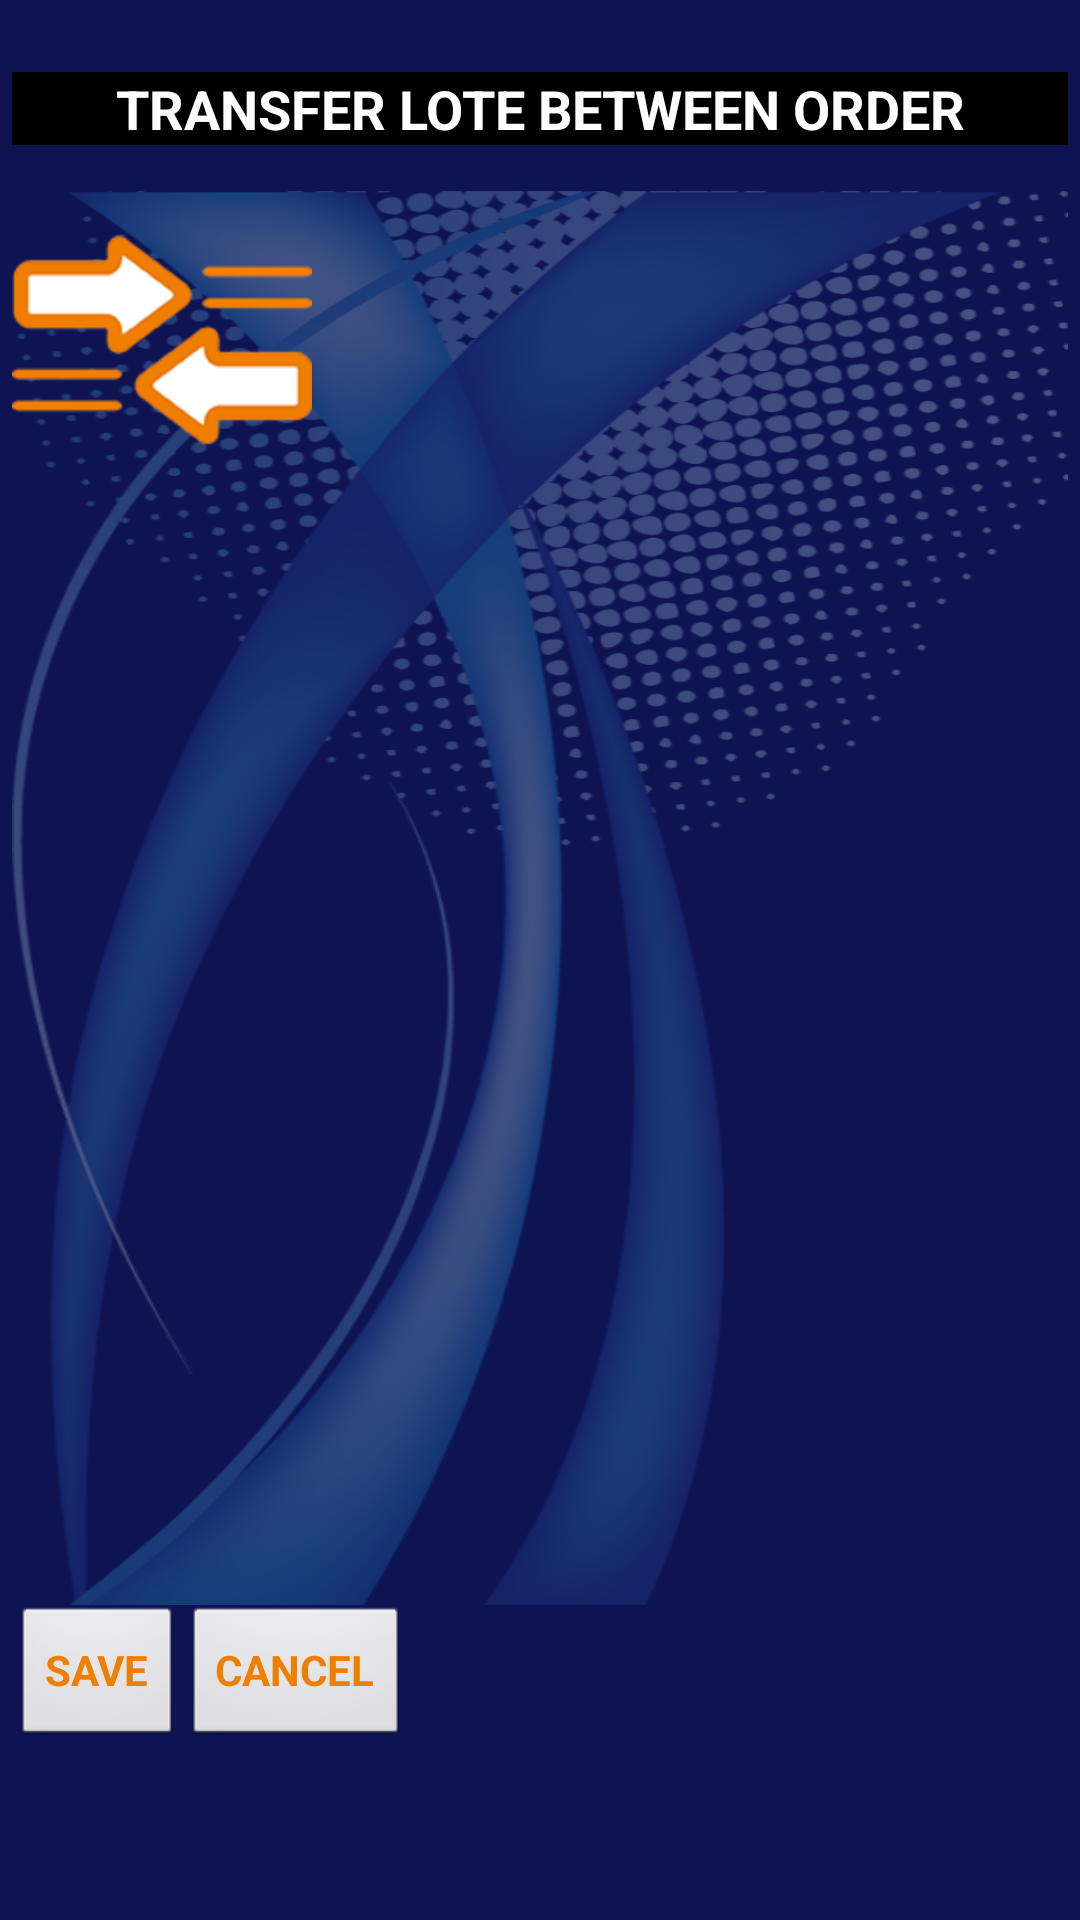

Screen size 1080px×1920px. Icon name, then its center in pixels as (x=x, y=y):
flechas: (x=162, y=340)
